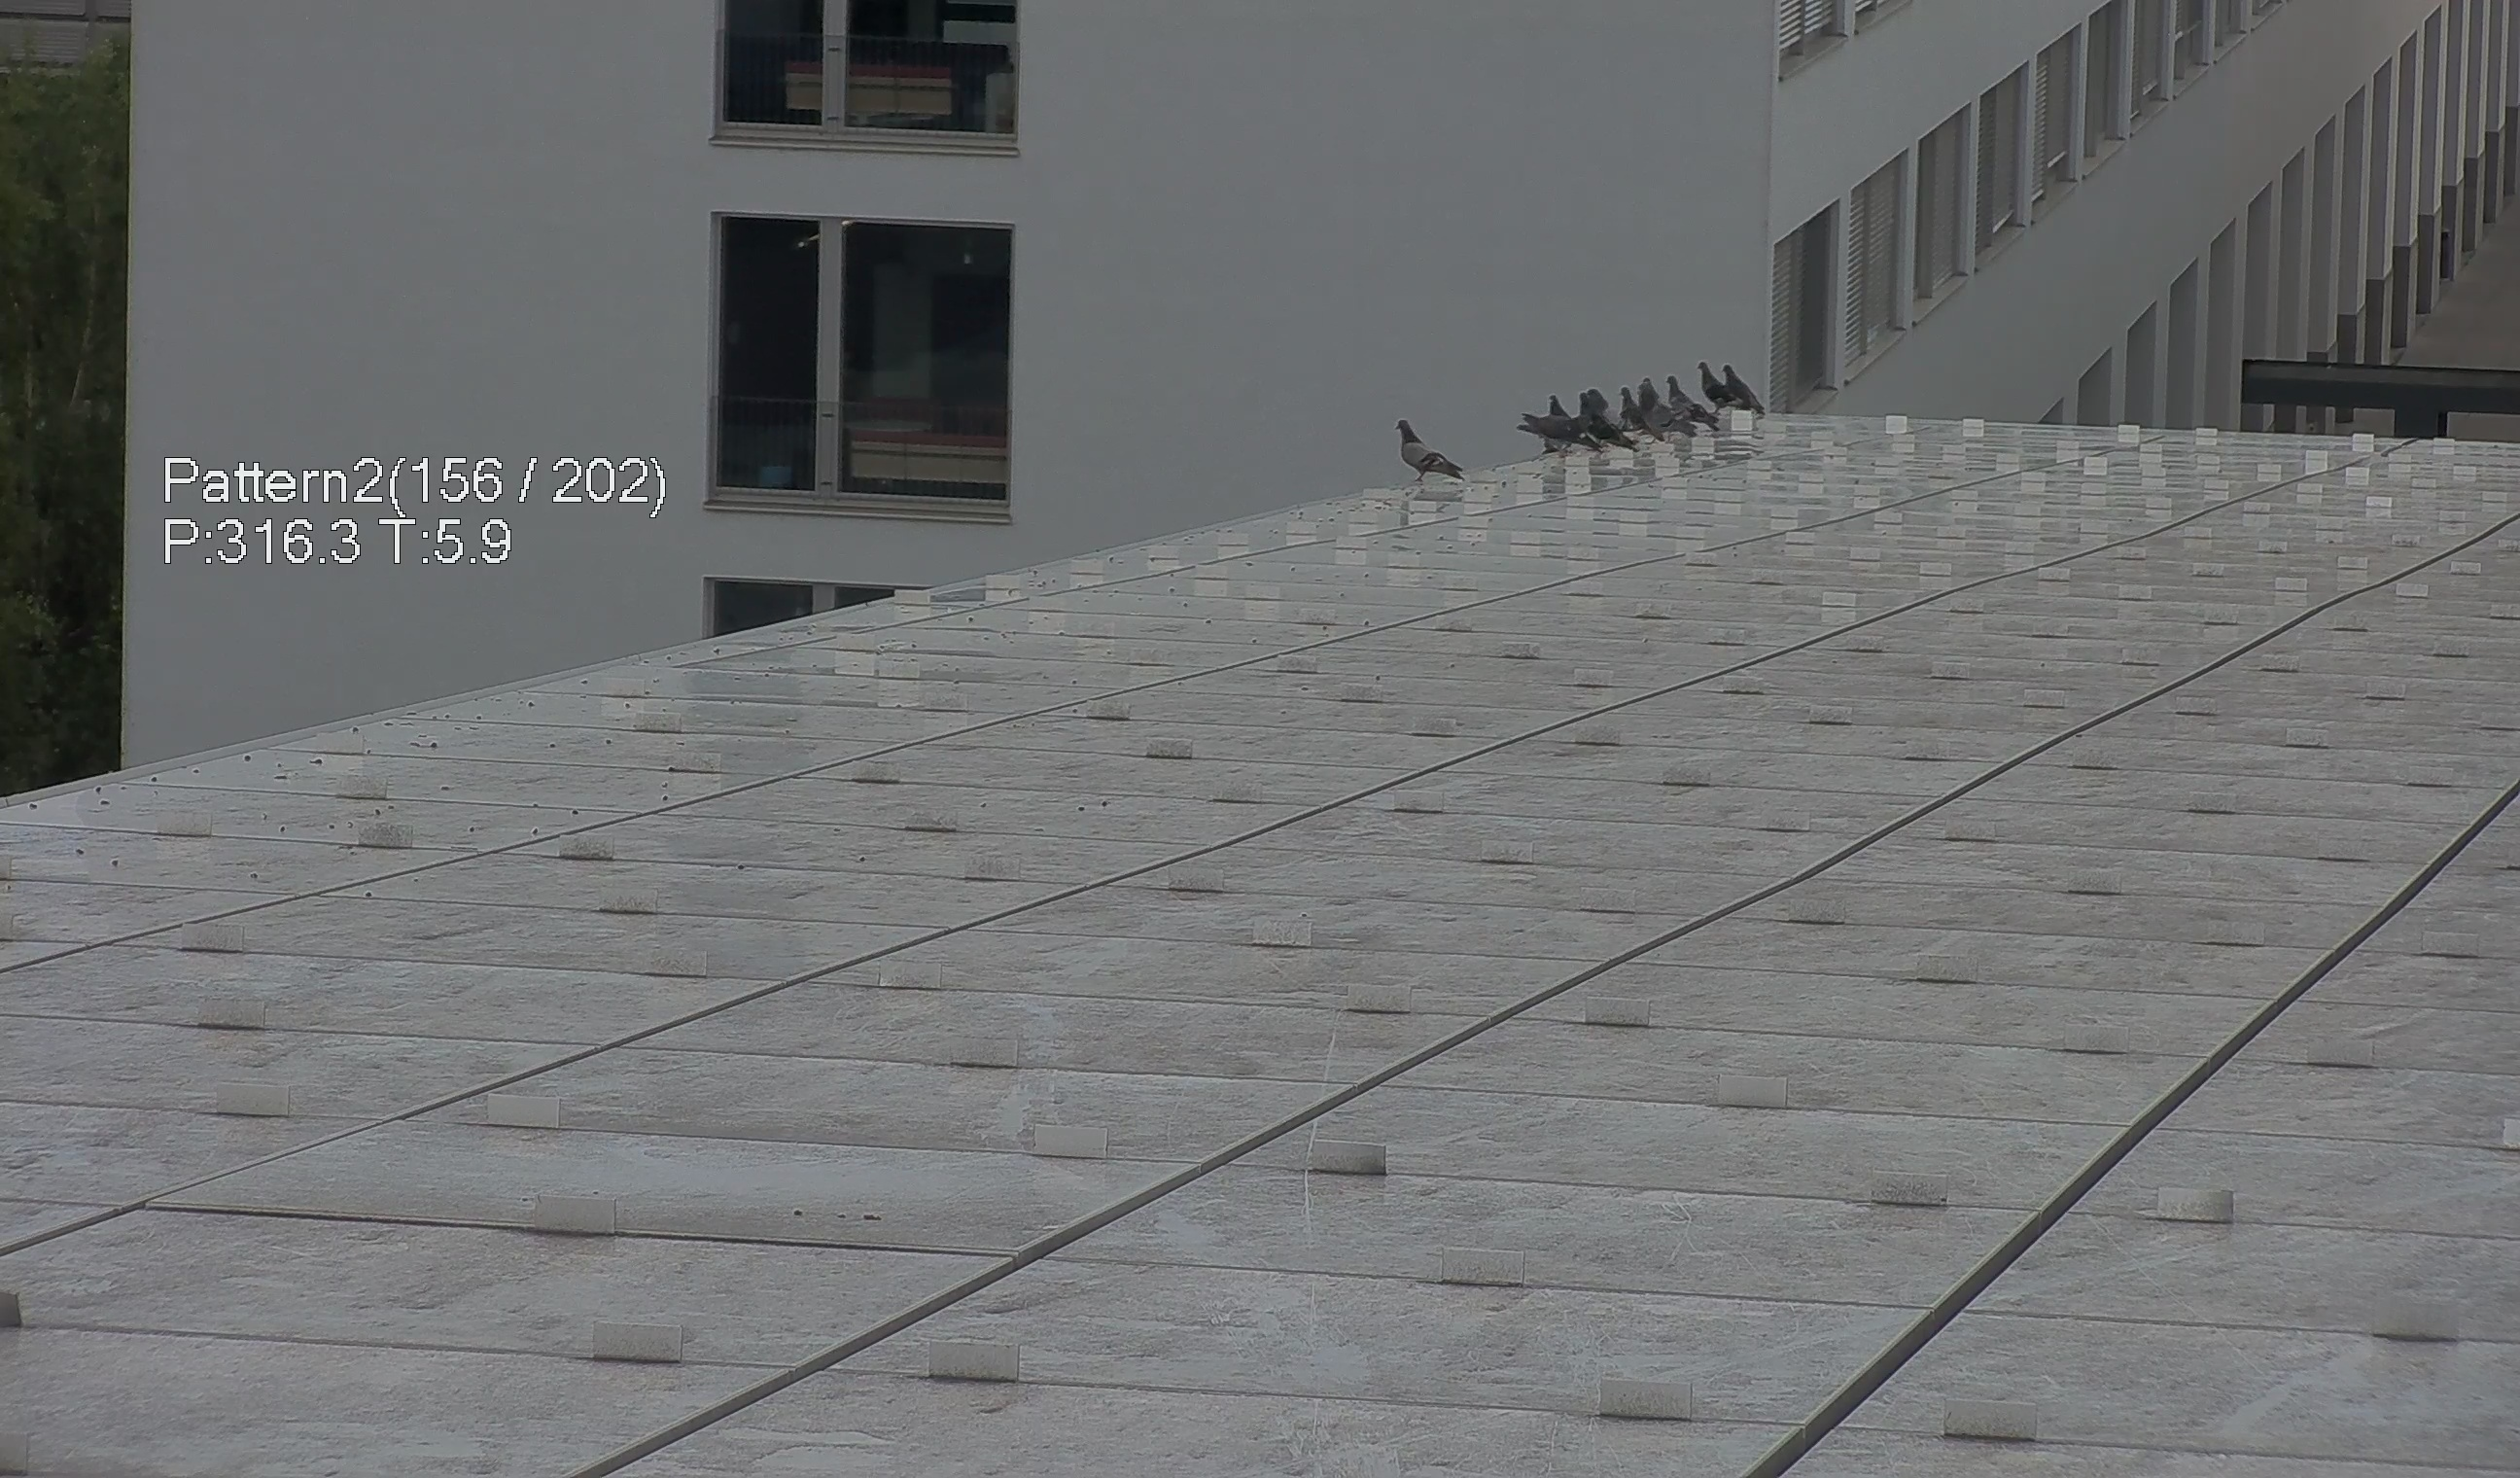Pigeon: (1393, 417, 1468, 489), (1634, 382, 1693, 443), (1507, 406, 1584, 454), (1658, 364, 1715, 429), (1577, 392, 1627, 449), (1723, 364, 1767, 417), (1693, 357, 1734, 405), (1593, 389, 1628, 429), (1614, 385, 1642, 433), (1544, 391, 1569, 419)
